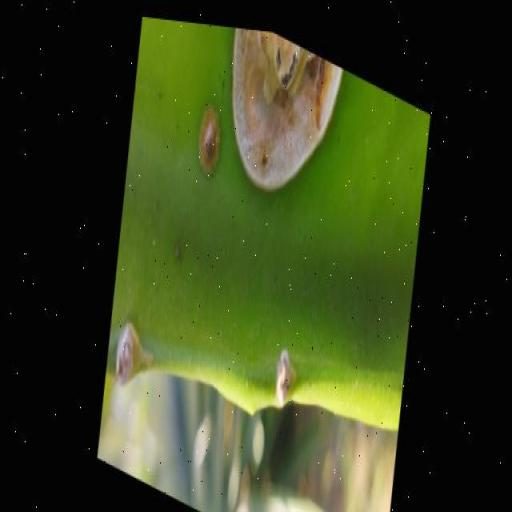stemcanker: (172, 239, 185, 269)
